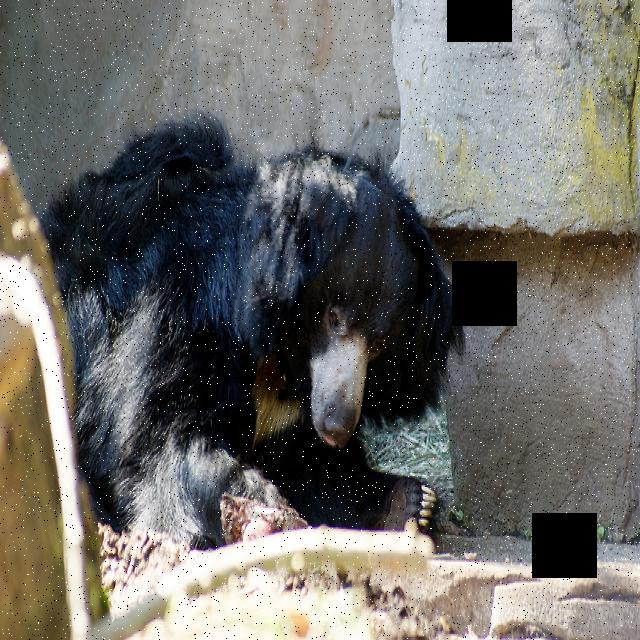Bear: (21, 108, 462, 561)
